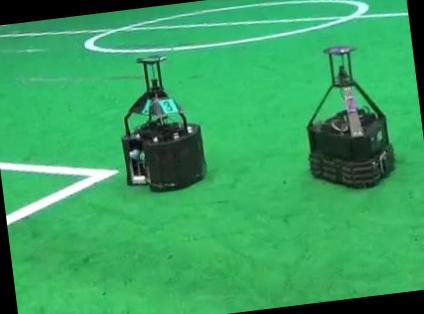robot: (307, 47, 393, 185), (121, 55, 205, 189)
